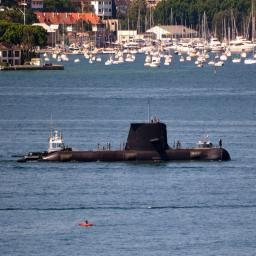submarine: (42, 120, 233, 161)
